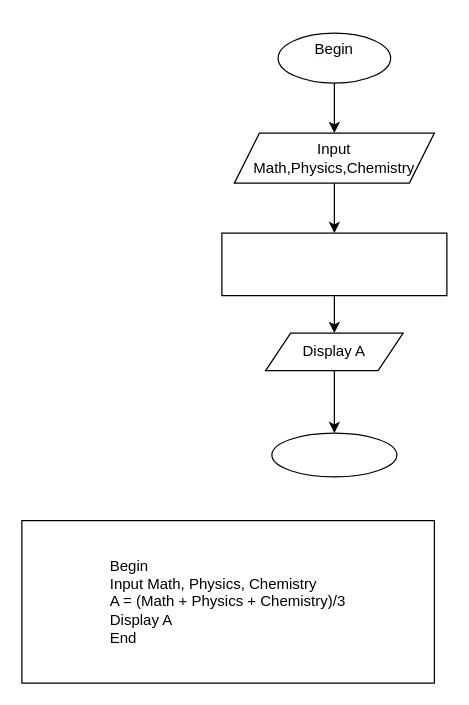
This 469x705 diagram has some shape labels left out. Each missing label, with the centre of its shape:
A=(Math+Physics+Chemistry)/3: the point at 334,264
End: the point at 334,454
